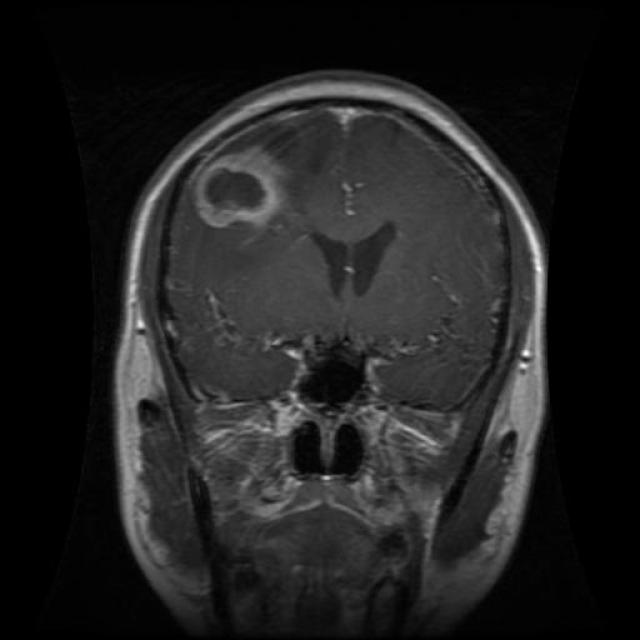glioma: (181, 153, 294, 241)
